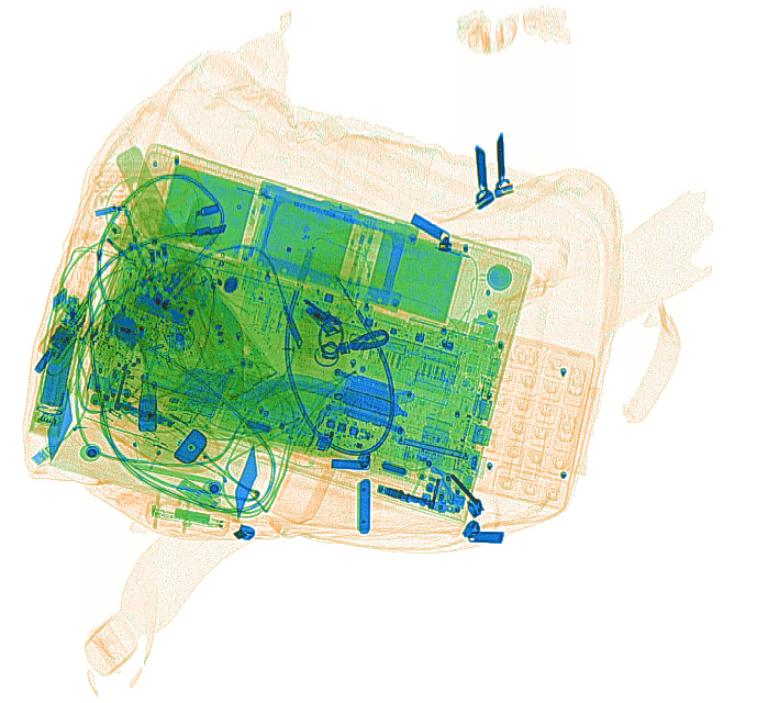battery: (38, 329, 77, 408)
